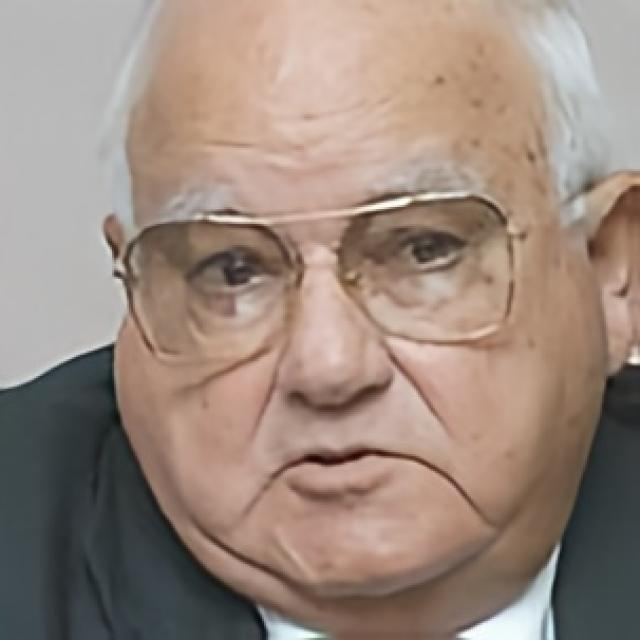sad: (125, 42, 568, 600)
